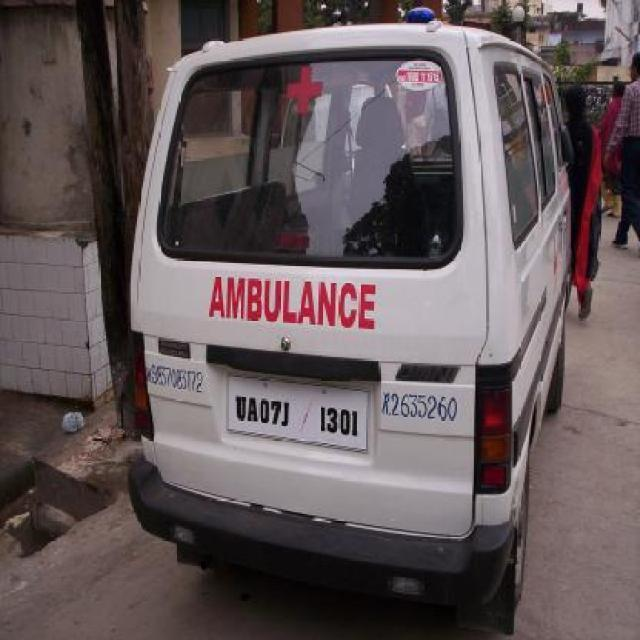Ambulance: (120, 10, 580, 628), (598, 48, 638, 264)
